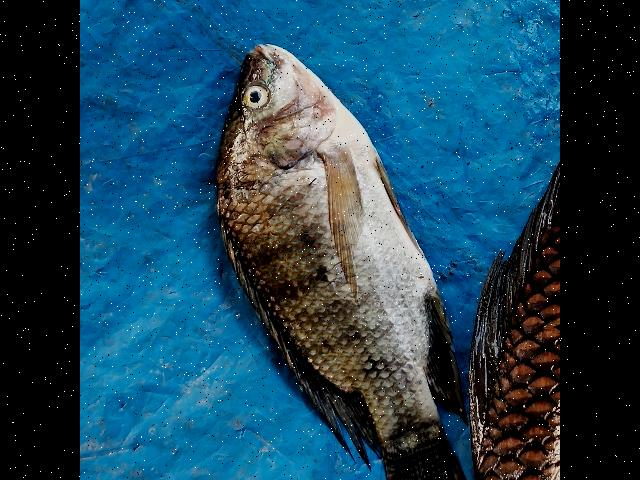Mulut: (231, 23, 293, 95)
Sirip Anal: (418, 268, 478, 432)
Sirip Dada: (308, 135, 376, 315)
Sirip Ekor: (373, 421, 478, 480)
Sirip Perut: (356, 131, 440, 271)
Sirip Punggung: (208, 196, 396, 469)
